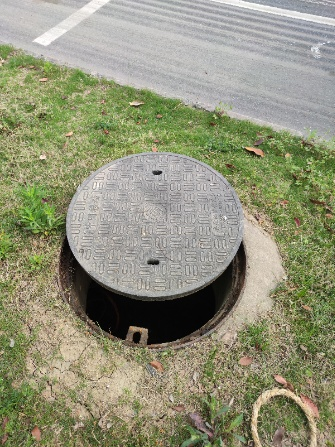uncovered: (57, 152, 245, 346)
